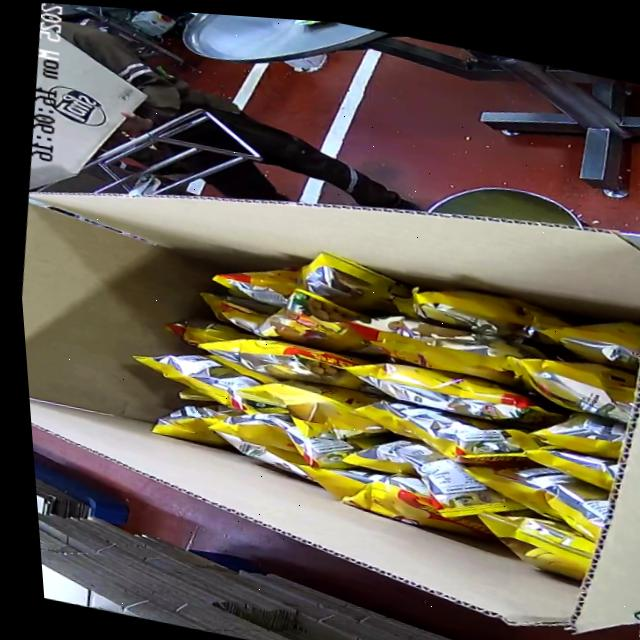SALTED: (132, 224, 640, 587)
